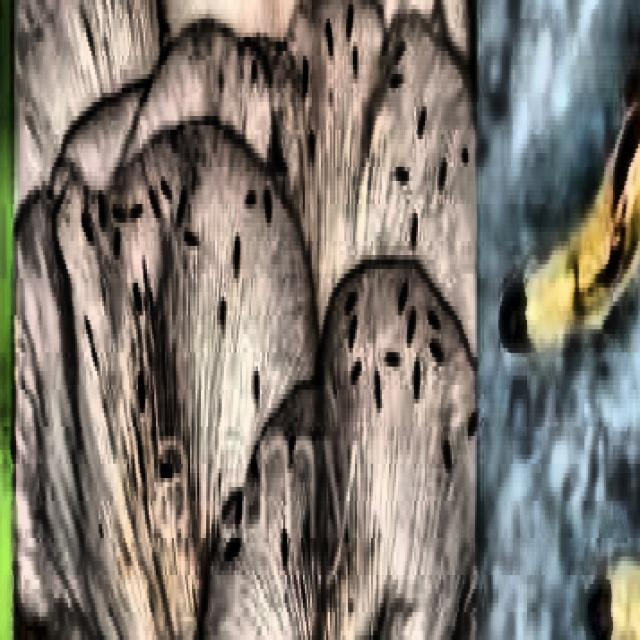Healthy-Affected: (54, 0, 432, 640)
